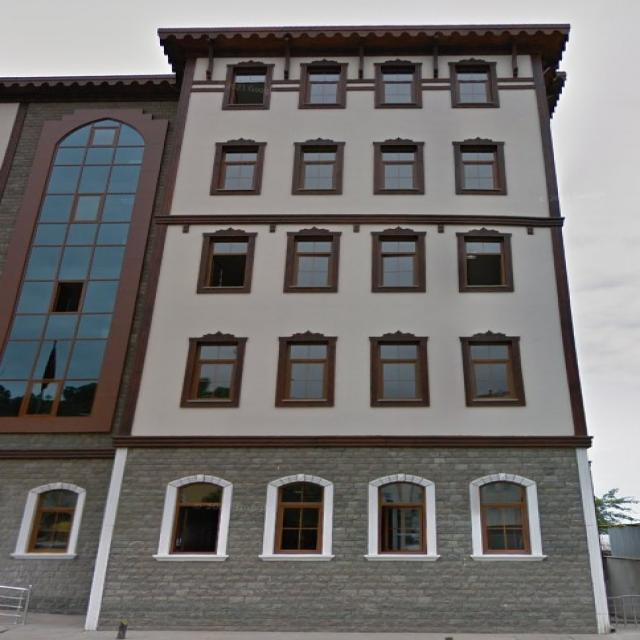Building: (0, 24, 608, 635)
